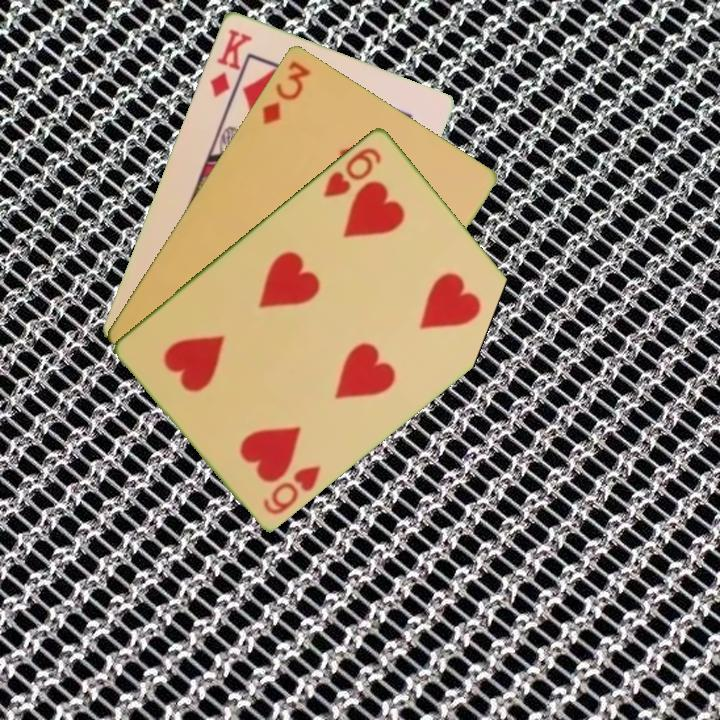3d: (258, 56, 314, 127)
6h: (319, 143, 384, 200), (259, 461, 324, 517)
Kd: (206, 25, 255, 100)
